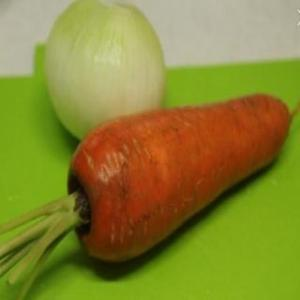carrot: (65, 94, 297, 266)
onion: (42, 2, 167, 142)
